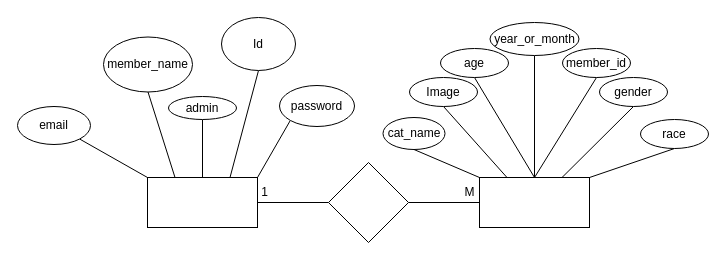
The diagram is 726 pixels wide and 260 high, and some of its shapes have lost their labels. Here are the shapes that lost their labels. From the top down, the centre of each, then its label:
the point at 202,202: members
the point at 534,202: cats
